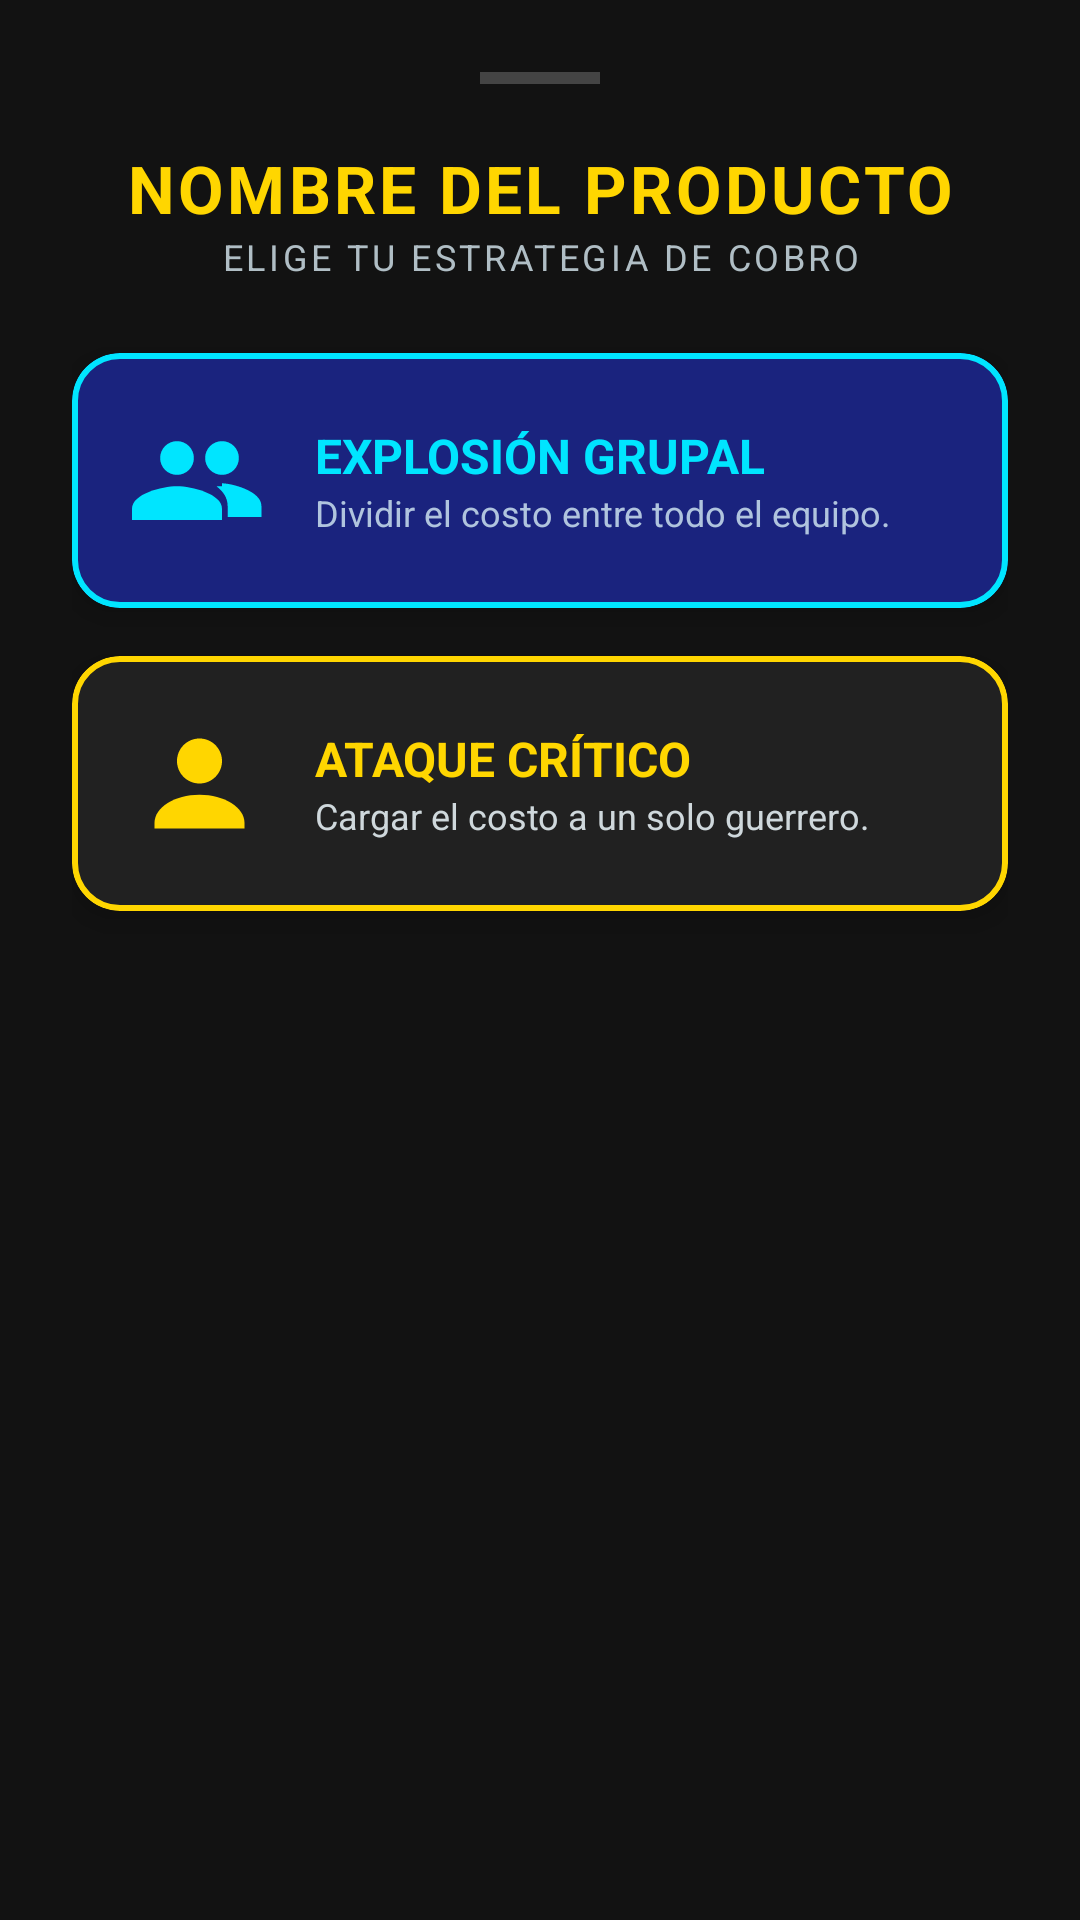

Screen size 1080px×1920px. Icon name, then its box in pixels as (x1, y1, x2, y2):
person: (154, 738, 245, 829)
